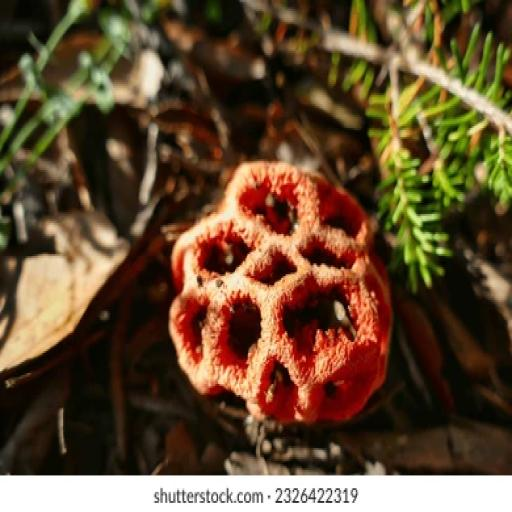Red Cage Fungus: (128, 135, 447, 453)
